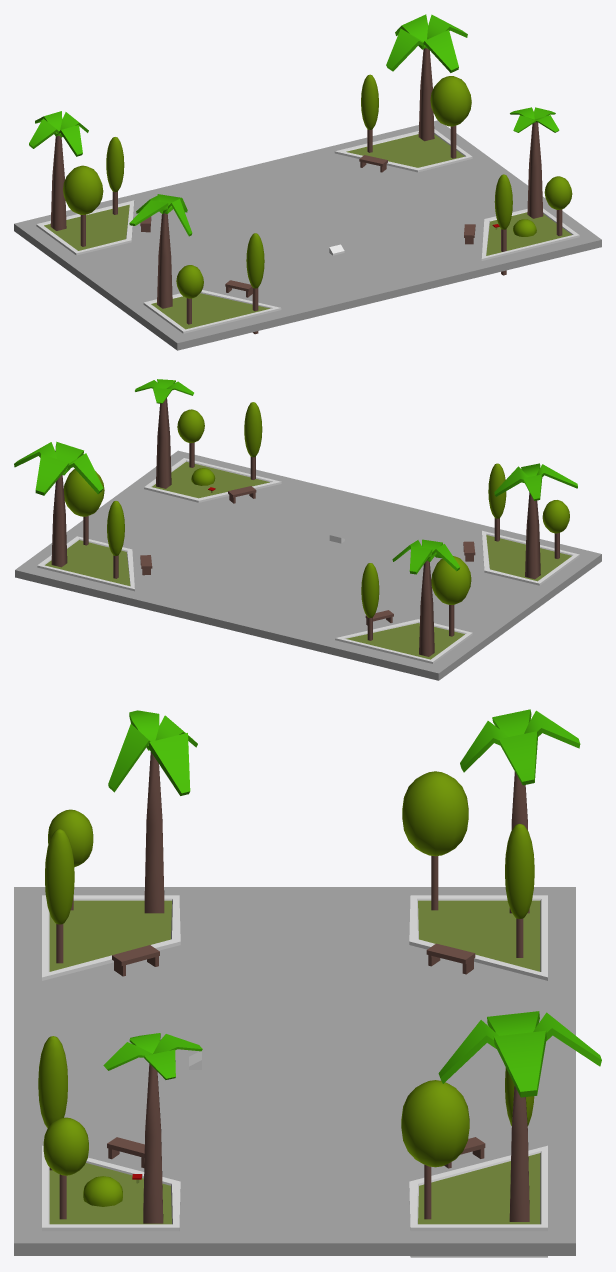
File: public_gardens.fbx
3 views of the same model, one above another, from view 1: azimuth 30°, elevation 25°; view 2: azimuth 150°, elevation 25°; view 3: azimuth 270°, elevation 25° (orthographic). The views are drawn at different scales.
Parts seen in each view (by area): view 1: depthmask_hole, pCube178, pCube123, pCube138, pCube139, pSphere39, pSphere36, pasted__pCube152 (×2), pasted__pCube151 (×2), pCube132, pCube131, pCube129 (+10 smaller); view 2: depthmask_hole, pCube178, pCube138, pCube123, pCube139, pSphere36, hole_fill, pasted__pCube150 (×2), pSphere39, pCube129, pCube128, pCube132 (+9 smaller); view 3: depthmask_hole, pCube138, pCube178, pCube123, pCube139, pasted__pCube149 (×3), pSphere39, pSphere36, pasted__pCube152 (×3), pCube131, pCube132, pSphere42 (+10 smaller).
Part boxes in pixels (box(x1,y1,x2,y2)): depthmask_hole: box(14, 120, 601, 350); pCube178: box(334, 129, 472, 172); pCube123: box(143, 290, 281, 333); pCube138: box(36, 200, 134, 255); pCube139: box(481, 208, 579, 260); pSphere39: box(430, 76, 471, 126); pSphere36: box(63, 165, 103, 214); pasted__pCube152 (×2): box(56, 30, 458, 156); pasted__pCube151 (×2): box(129, 28, 427, 225); pCube132: box(527, 122, 543, 218); pCube131: box(157, 213, 172, 308); pCube129: box(50, 135, 66, 230); depthmask_hole: box(15, 450, 601, 680); pCube178: box(37, 536, 134, 591); pCube138: box(335, 619, 472, 663); pCube123: box(482, 530, 579, 585); pCube139: box(144, 458, 281, 502); pSphere36: box(431, 556, 471, 604); hole_fill: box(15, 555, 601, 680); pasted__pCube150 (×2): box(35, 454, 432, 574); pSphere39: box(63, 469, 104, 516); pCube129: box(419, 560, 434, 656); pCube128: box(51, 475, 67, 567); pCube132: box(156, 398, 171, 488); depthmask_hole: box(14, 887, 575, 1255); pCube138: box(409, 895, 547, 980); pCube178: box(409, 1145, 547, 1231); pCube123: box(42, 895, 180, 980); pCube139: box(42, 1145, 180, 1231); pasted__pCube149 (×3): box(148, 731, 546, 1097); pSphere39: box(401, 1080, 469, 1167); pSphere36: box(402, 771, 468, 856); pasted__pCube152 (×3): box(108, 721, 507, 1083); pCube131: box(144, 752, 164, 913); pCube132: box(143, 1064, 163, 1223); pSphere42: box(505, 824, 534, 918).
Size of the model in its own units: 31.78 by 9.3 by 20.92.
